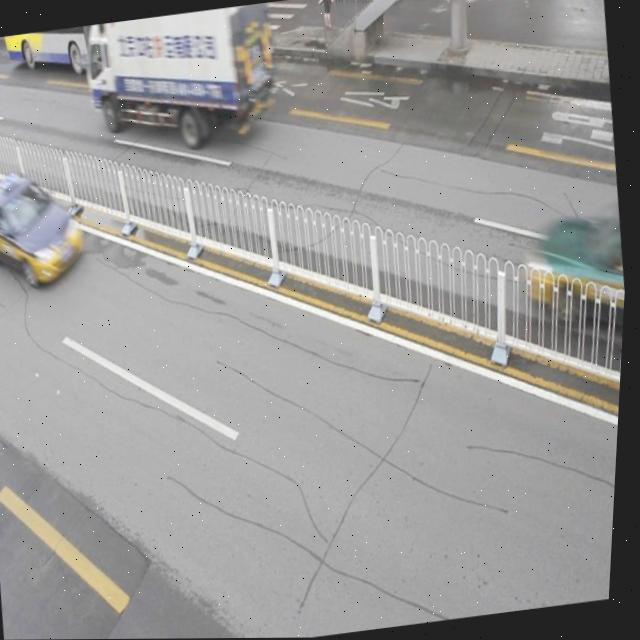bus: (78, 3, 279, 150)
car: (521, 201, 632, 339), (0, 166, 93, 288)
van: (2, 9, 227, 94)
